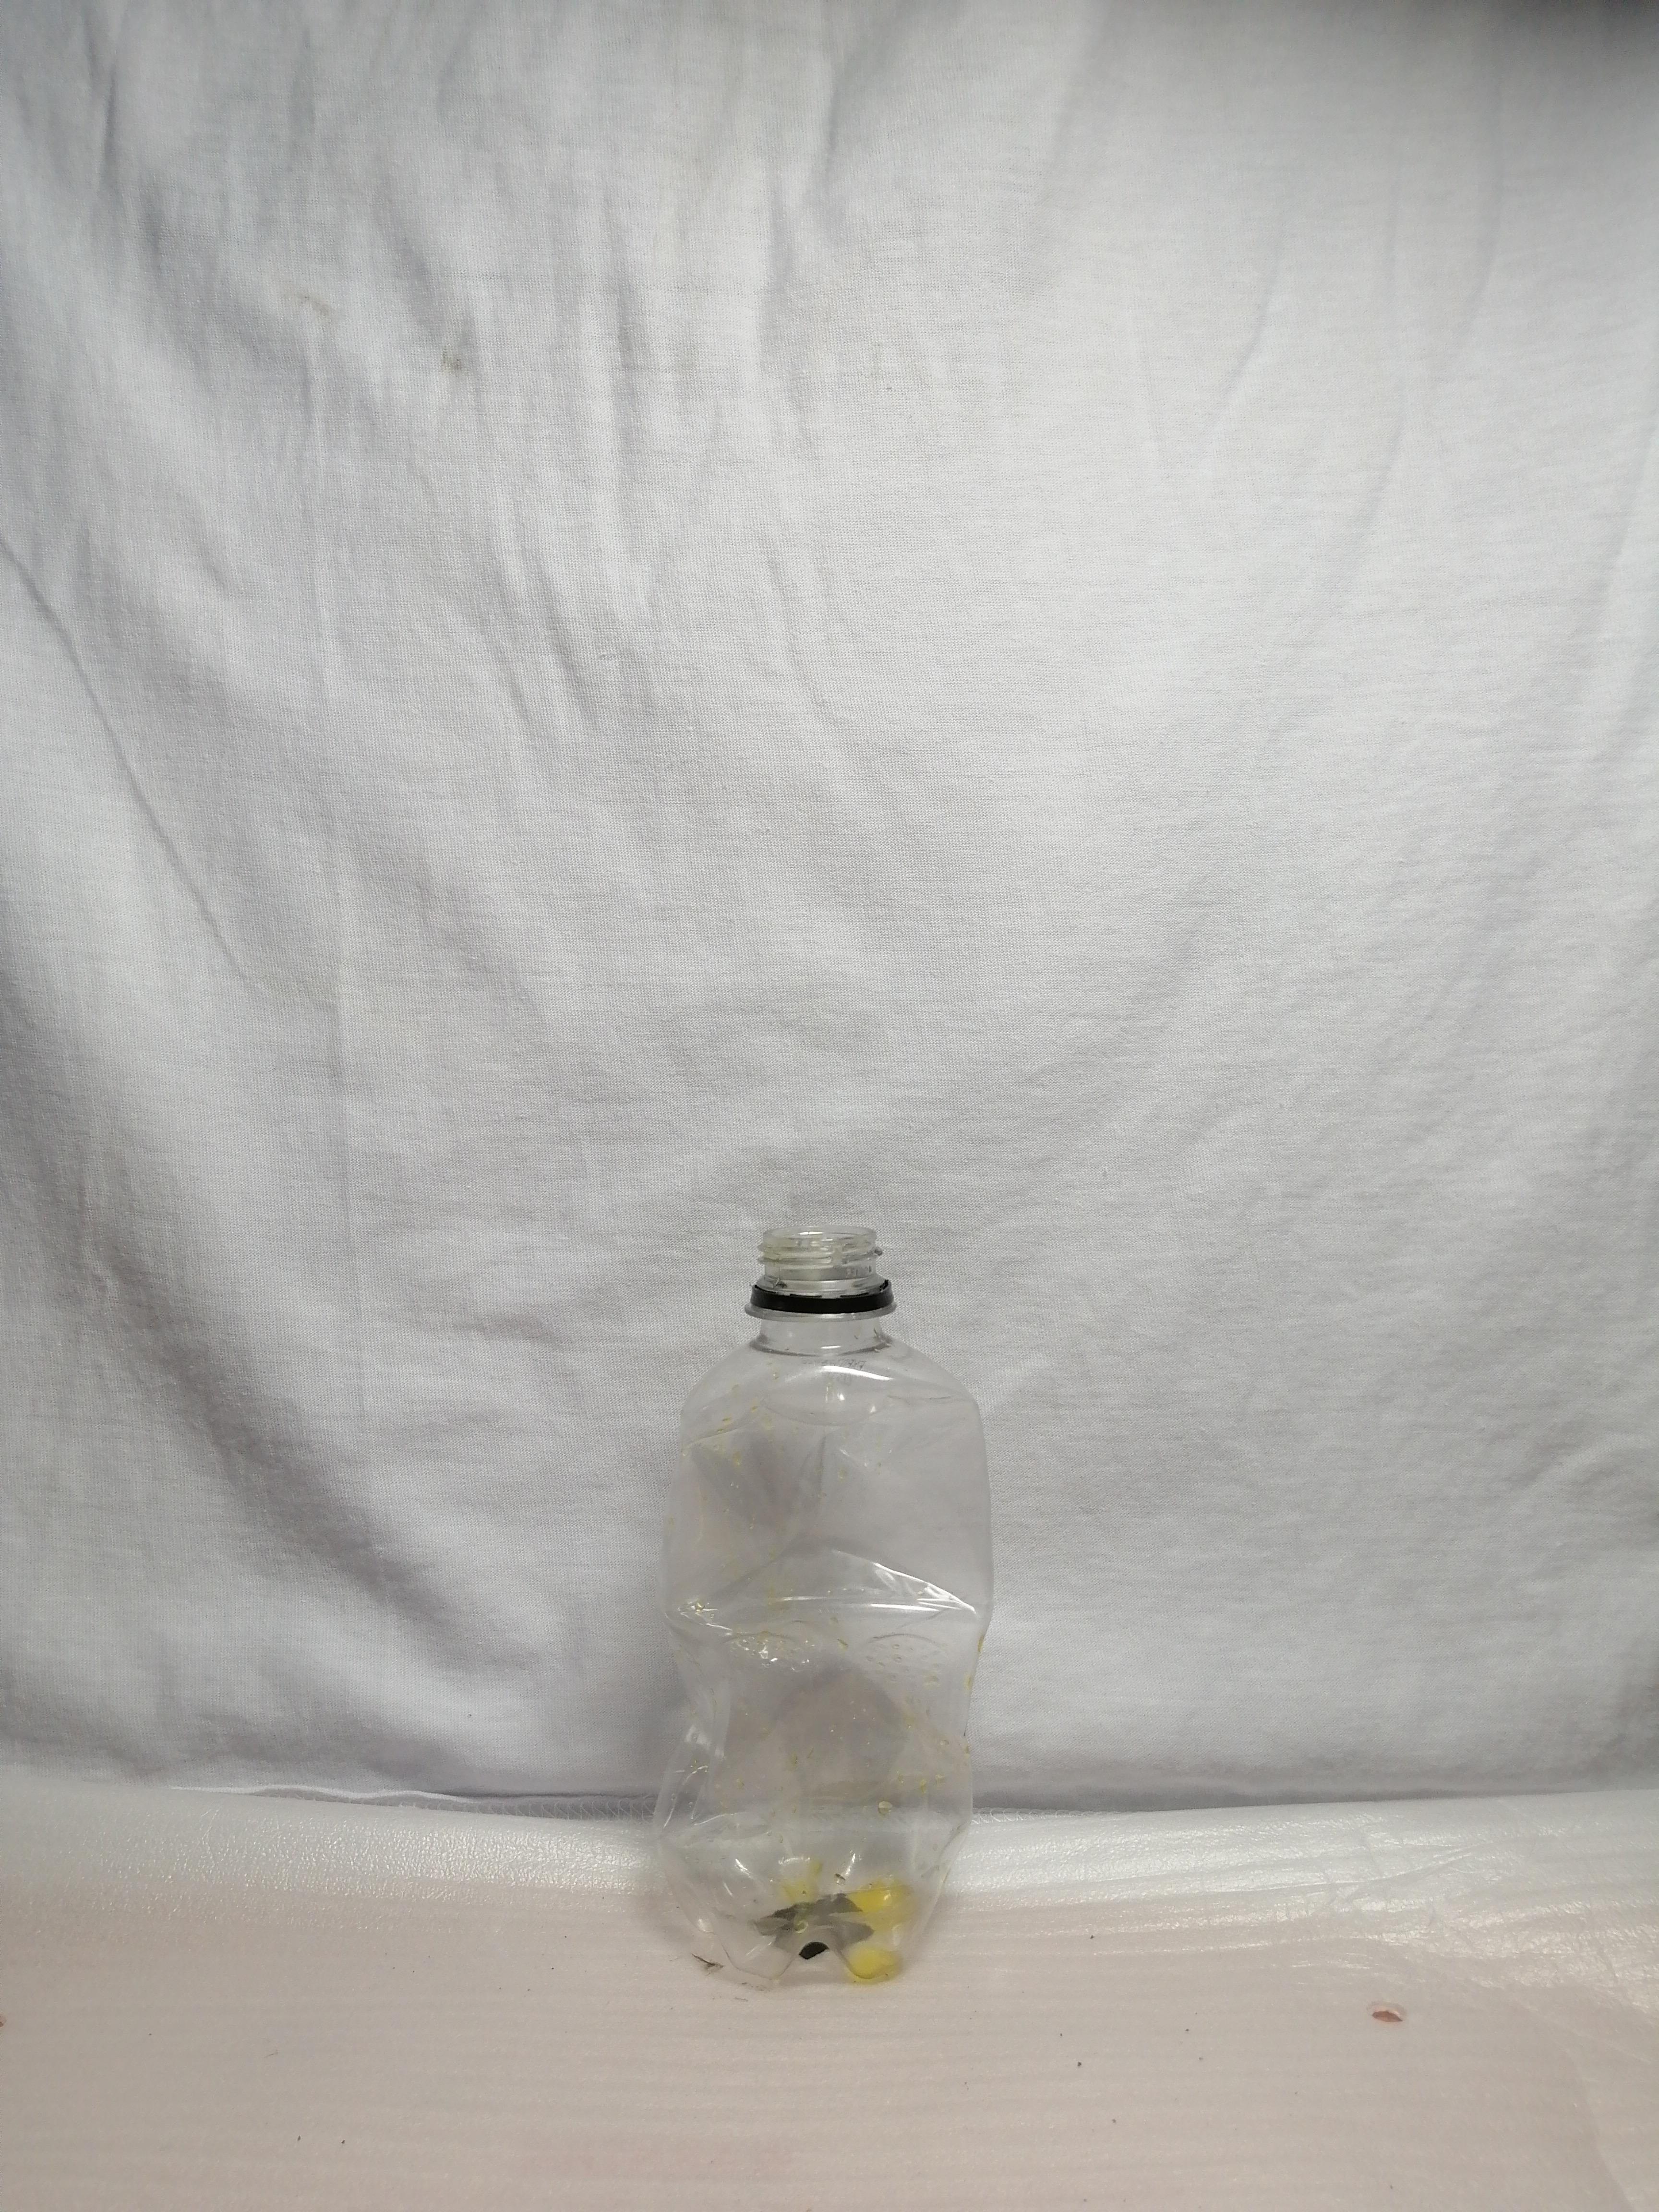plastic-bottle: (624, 1181, 1032, 2026)
